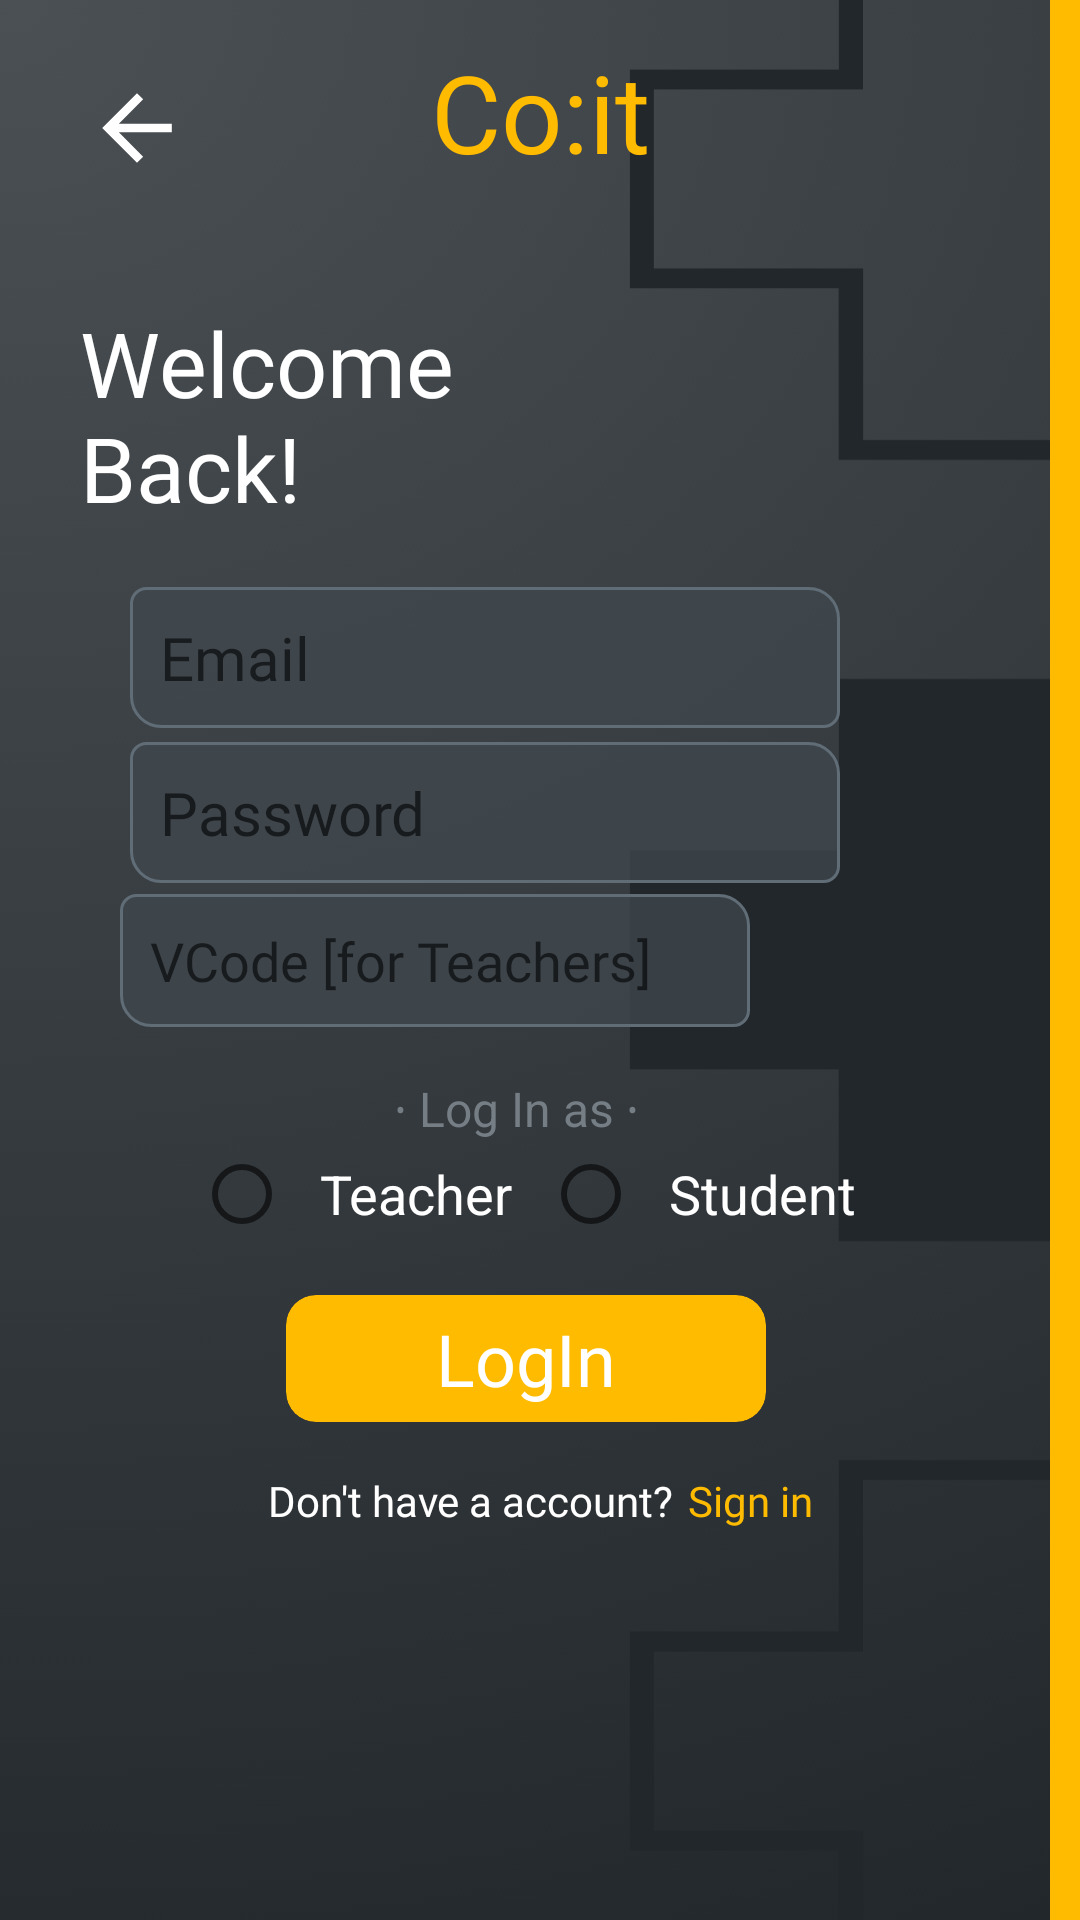

Where icons sit on this 1080 × 1920 app screen, as (x1, y1, x2, y2):
lefta: (102, 93, 172, 163)
